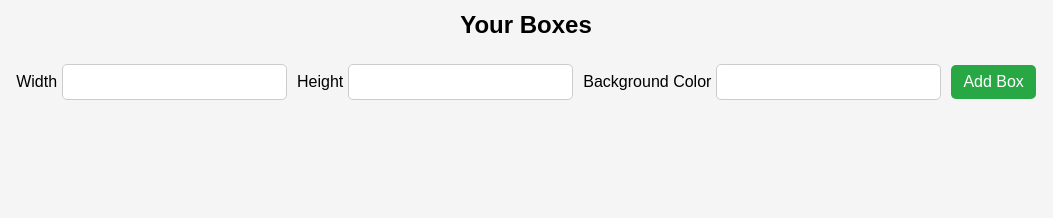
can remove a box
The width and height of the screenshot is (1053, 218).
Type "2" into the field labelled "Width". click: (174, 82)
box: [62,64,287,100]
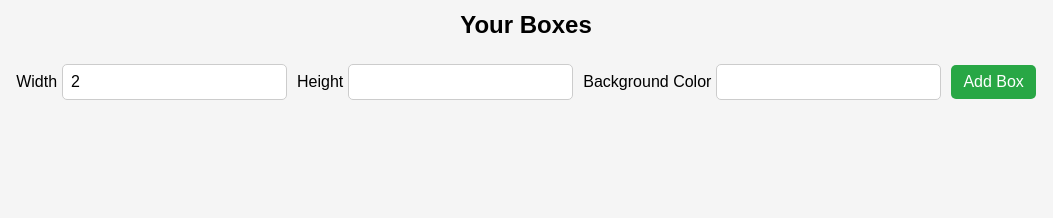
Type "2" into the field labelled "Height". click: (461, 82)
box: [348,64,573,100]
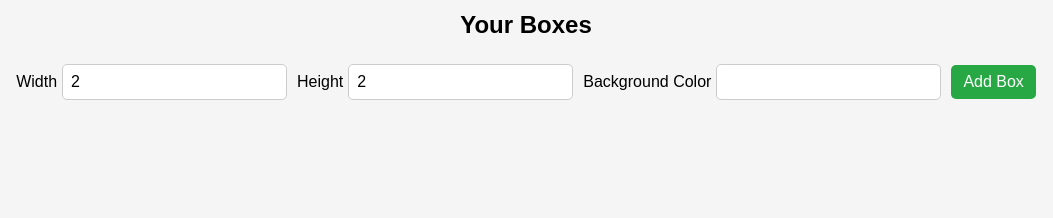
Type "red" into the field labelled "Background Color". click: (829, 82)
box: [716,64,941,100]
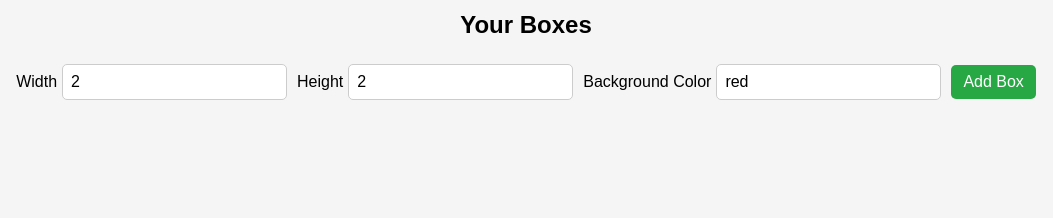
Click the button "Add Box". click: (994, 82)
box: [951,65,1036,99]
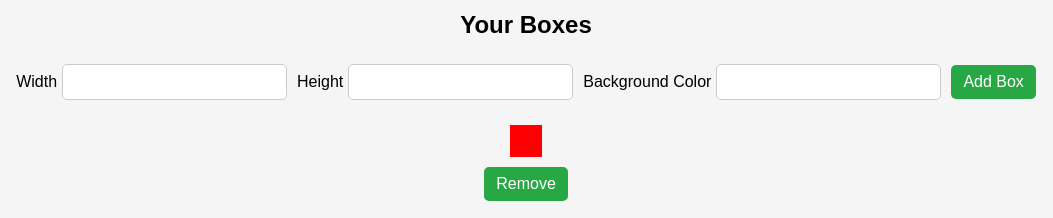
Click the button "Remove". click: (526, 184)
box: [484,167,568,201]
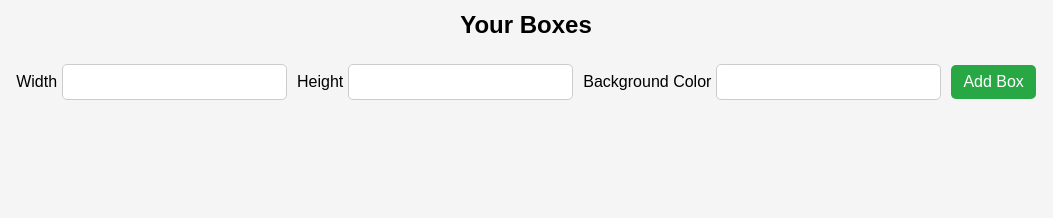
Now the button "Remove" is gone
